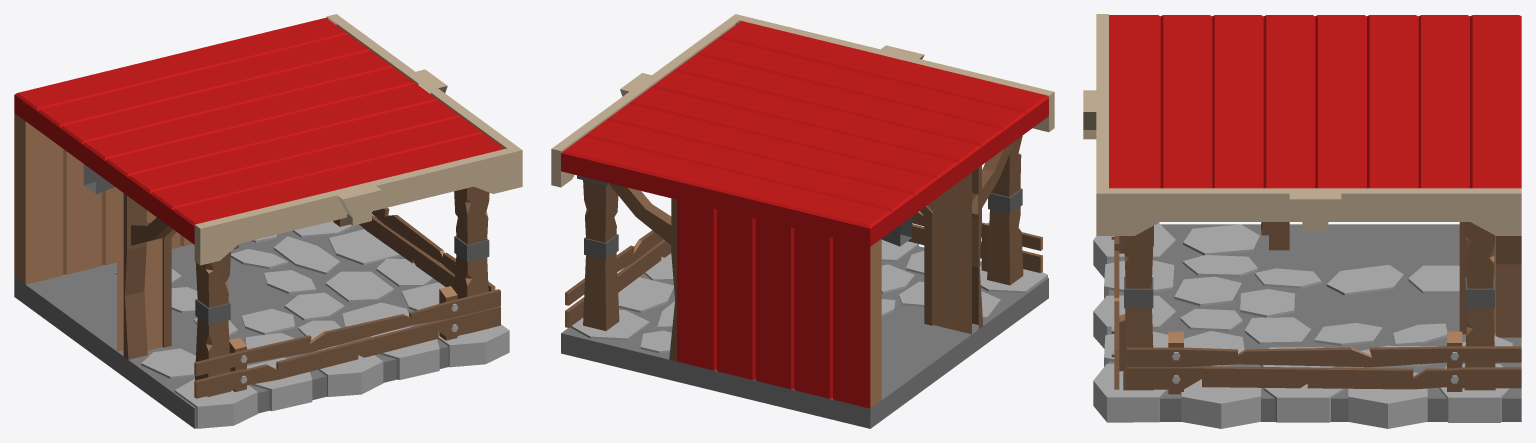
File: Farm_Level_01_CornerRight.fbx
The picture shows the model from 3 angles, left to right: view 1: azimuth 30°, elevation 25°; view 2: azimuth 150°, elevation 25°; view 3: azimuth 270°, elevation 25°; orthographic projection. The views are drawn at different scales.
Visible parts, largest first — view 1: Farm_Level_01_CornerRight; view 2: Farm_Level_01_CornerRight; view 3: Farm_Level_01_CornerRight.
Part boxes in pixels (bbox=[...]): Farm_Level_01_CornerRight: bbox=[14, 14, 522, 428]; Farm_Level_01_CornerRight: bbox=[551, 14, 1054, 428]; Farm_Level_01_CornerRight: bbox=[1083, 14, 1521, 428].
Size of the model in its own units: 850 by 500 by 850.
